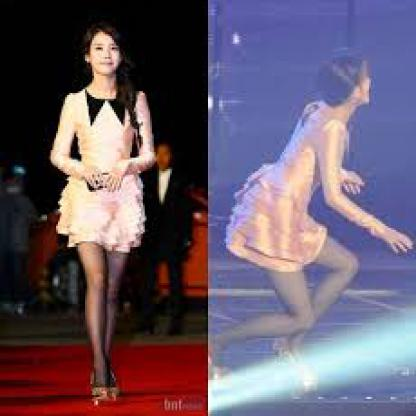Fall_Down: (210, 46, 414, 394)
